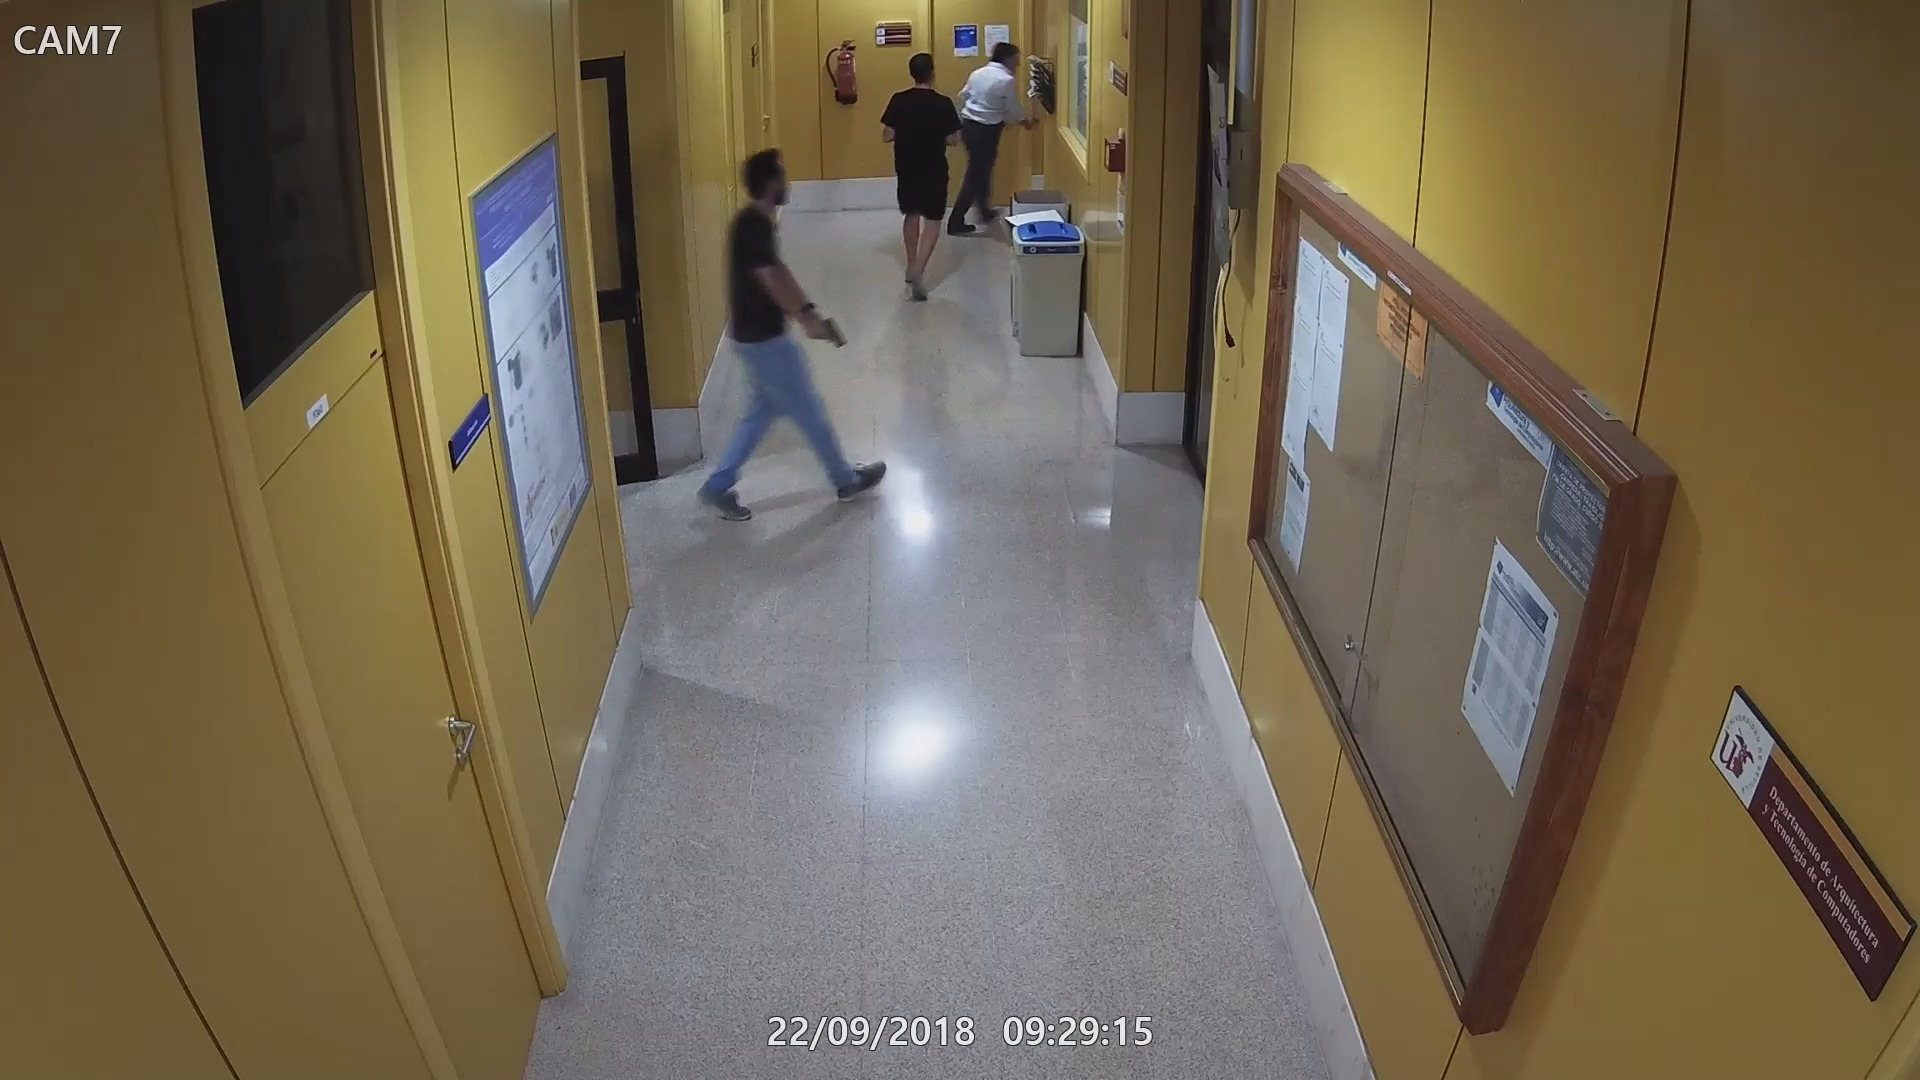pistol: (807, 311, 851, 349)
